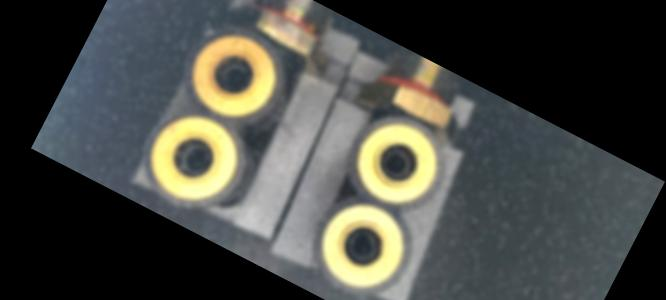off-centered: (338, 221, 385, 269), (172, 135, 218, 181)
